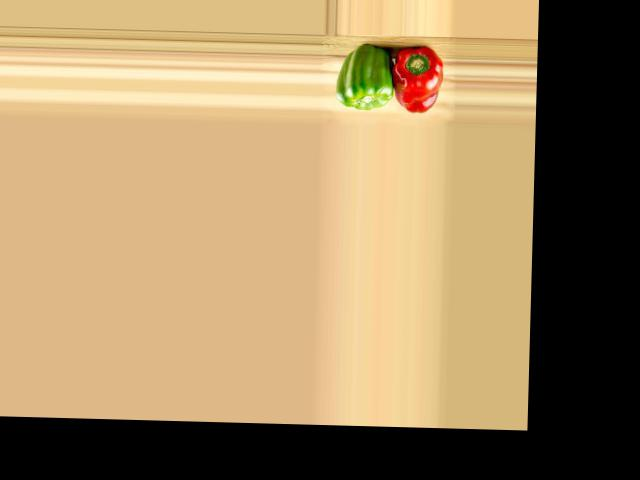bell_pepper: (389, 45, 445, 114)
